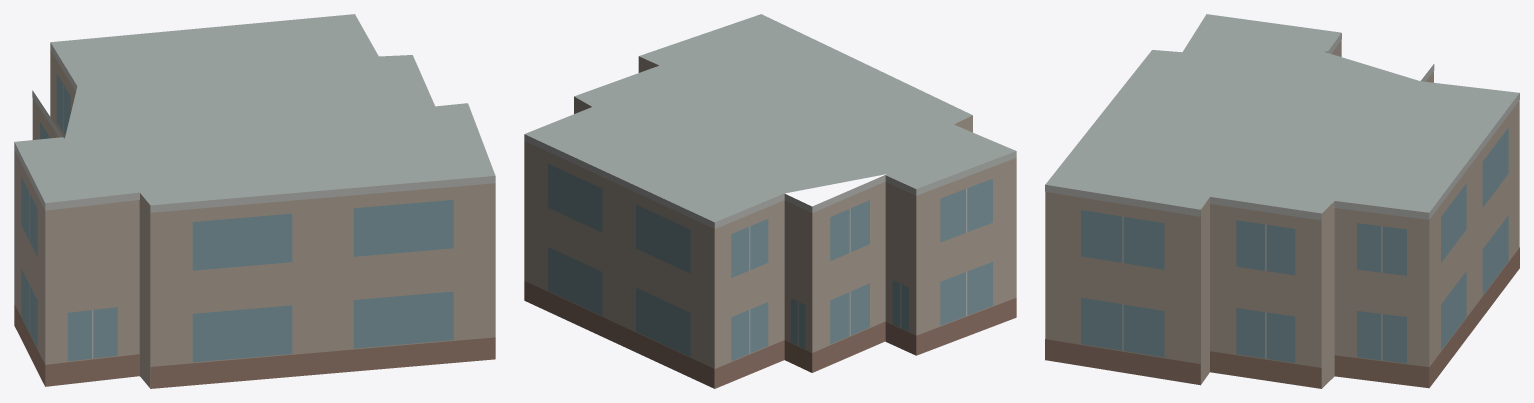
Rendered from survey-upis-32676333.glb.
3 renders of one model, left to right at view 1: azimuth 30°, elevation 25°; view 2: azimuth 150°, elevation 25°; view 3: azimuth 270°, elevation 25°, orthographic. The views are drawn at different scales.
Parts seen in each view (by area): view 1: survey-upis-32676333.tmp; view 2: survey-upis-32676333.tmp; view 3: survey-upis-32676333.tmp.
Boxes of the visible parts, x1,y1,x2,y2 form: survey-upis-32676333.tmp: [14, 14, 495, 388]; survey-upis-32676333.tmp: [524, 14, 1016, 388]; survey-upis-32676333.tmp: [1045, 14, 1519, 388].
Size of the model in its own units: 14.89 by 6.1 by 14.97.
